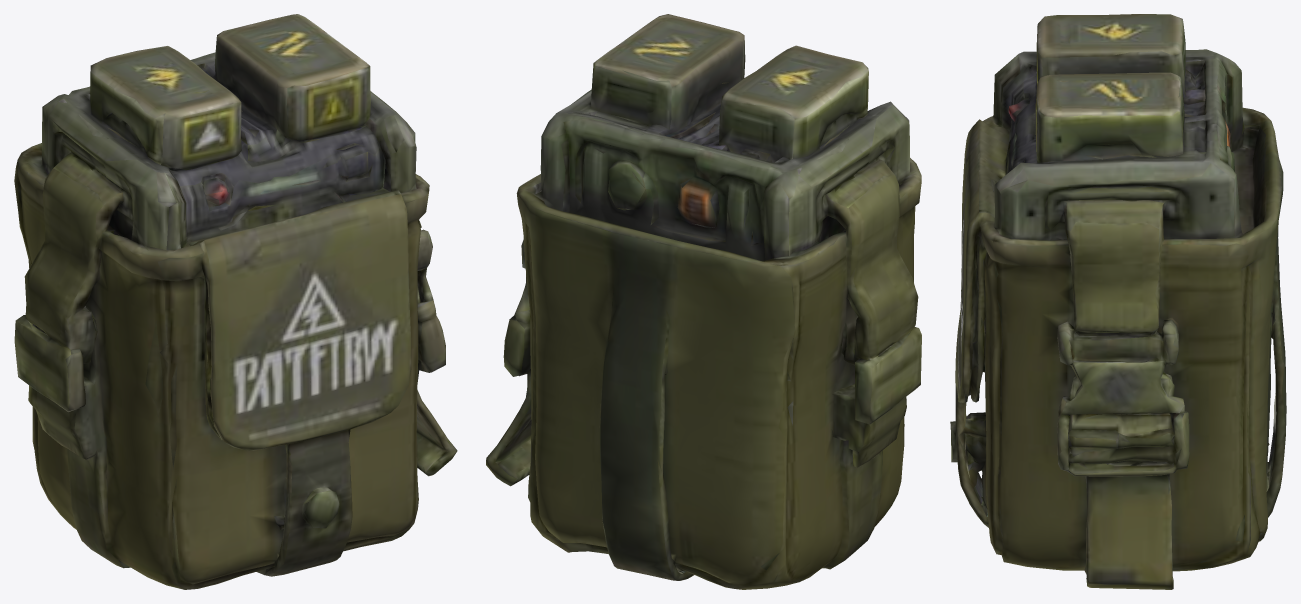
The model's file is battery.glb.
3 renders of one model, left to right at view 1: azimuth 30°, elevation 25°; view 2: azimuth 150°, elevation 25°; view 3: azimuth 270°, elevation 25°, orthographic. The views are drawn at different scales.
Bounding box in the file's own units: 1.74 × 1.99 × 1.32.
Materials: 1 (1 with a texture image).
